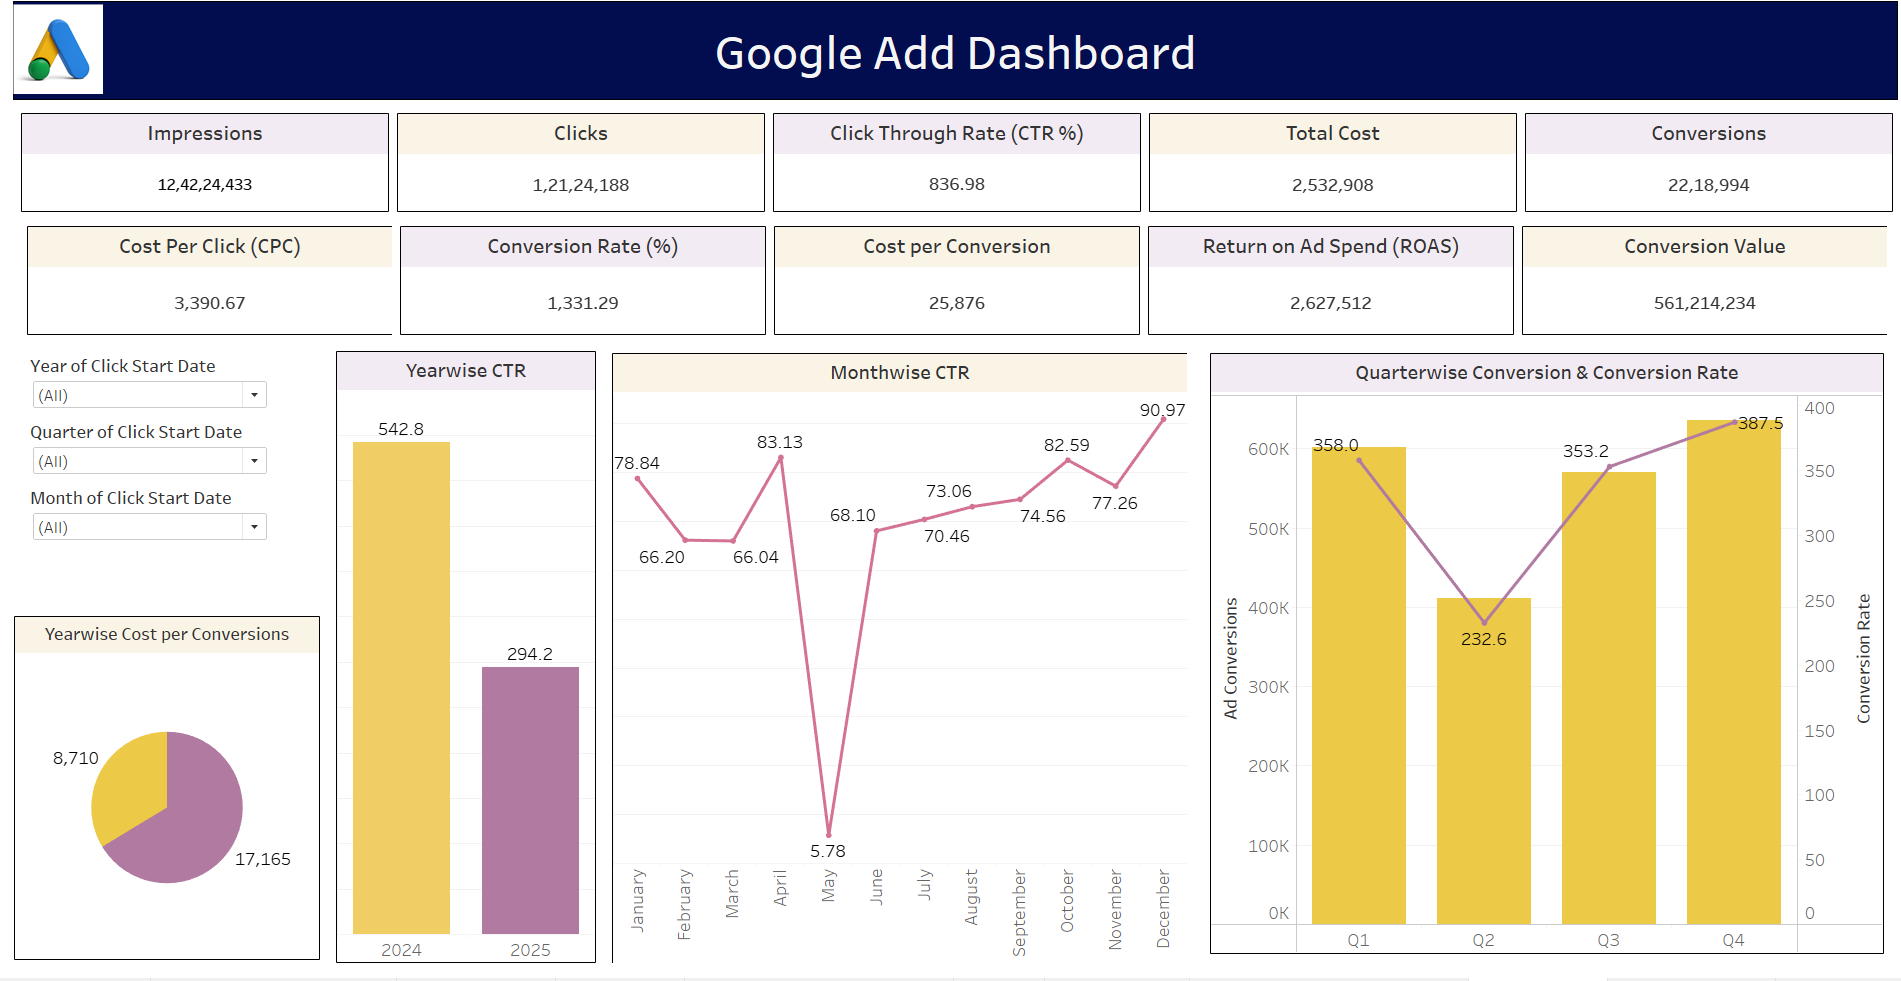

What the dashboard file says about the page in this screenshot:
{"tool":"powerbi","page":{"name":"Google","canvas":[1280,720],"ordinal":1},"visuals":[{"type":"shape","box":[32.6,145.1,80.9,229.8],"z":0},{"type":"shape","box":[33,220.2,80.9,78.7],"z":1000},{"type":"card","title":"Conversions","fields":{"Values":["Sum(Google Add Data.ad_conversions)"]},"box":[164.7,190.7,173,67.9],"z":2000},{"type":"card","title":"Total Impressions","fields":{"Values":["Sum(Google Add Data.ad_impressions)"]},"box":[164.7,107,173,70.7],"z":3000},{"type":"card","title":"Clicks","fields":{"Values":["Sum(Google Add Data.ad_clicks)"]},"box":[367.4,107,171.2,71.6],"z":4000},{"type":"card","title":"Click through rate","fields":{"Values":["Sum(Google Add Data.click through rate)"]},"box":[575.8,107,203.7,70.7],"z":5000},{"type":"card","title":"Total Cost","fields":{"Values":["Sum(Google Add Data.ad_cost_usd)"]},"box":[807.4,107,180.5,73.5],"z":6000},{"type":"card","title":"Conversion Rate","fields":{"Values":["Sum(Google Add Data.conversion rate)"]},"box":[1012.1,107,193.5,73.5],"z":7000},{"type":"card","title":"Total likes","fields":{"Values":["Sum(Google Add Data.ROAS)"]},"box":[1012.1,188.8,193.5,67.9],"z":8000},{"type":"card","title":"Conversion value","fields":{"Values":["Sum(Google Add Data.ad_conversion_value)"]},"box":[807.4,192.6,180.5,67],"z":9000},{"type":"card","title":"cost per conversion","fields":{"Values":["Sum(Google Add Data.Cost per Conversion)"]},"box":[575.8,191.6,203.7,67.9],"z":10000},{"type":"card","title":"Cost per Click","fields":{"Values":["Sum(Google Add Data.cost per click)"]},"box":[367.4,191.6,171.2,67],"z":11000},{"type":"lineChart","title":"CTR by month","fields":{"Category":["Google Add Data.click_start_date.Variation.Date Hierarchy.Month"],"Y":["Sum(Google Add Data.conversion rate)"]},"box":[164.7,268.8,554.4,206.5],"z":12000},{"type":"pieChart","title":"Yearwise cost per conversion","fields":{"Y":["Sum(Google Add Data.Campaign CTR (%))"],"Category":["Google Add Data.click_start_date.Variation.Date Hierarchy.Year"]},"box":[739.5,273.5,466,201.9],"z":13000},{"type":"lineStackedColumnComboChart","title":"Quarterwise ad conversion vs conversion rate","fields":{"Y":["Sum(Google Add Data.conversion rate)"],"Category":["Google Add Data.click_start_date.Variation.Date Hierarchy.Quarter"],"Y2":["Sum(Google Add Data.ad_conversions)"]},"box":[164.7,488.4,554.4,222.3],"z":14000},{"type":"donutChart","title":"Impression Yearwise","fields":{"Y":["Sum(Google Add Data.ad_impressions)"],"Category":["Google Add Data.click_start_date.Variation.Date Hierarchy.Year"]},"box":[739.5,494.9,466,215.8],"z":15000},{"type":"slicer","fields":{"Values":["Google Add Data.click_start_date.Variation.Date Hierarchy.Month"]},"box":[524.8,16,179.6,68.8],"z":16000},{"type":"slicer","fields":{"Values":["Google Add Data.ad_group_name"]},"box":[731.3,13,179.6,68.8],"z":17000},{"type":"image","box":[49.3,310.7,48.4,47.4],"z":18000},{"type":"image","box":[40.9,155.3,64.2,59.5],"z":19000},{"type":"textbox","box":[32.9,16,452.9,67.8],"z":20000},{"type":"image","box":[1141.5,22.5,64.2,49.5],"z":21000},{"type":"slicer","fields":{"Values":["Google Add Data.click_start_date.Variation.Date Hierarchy.Day"]},"box":[933.3,13.5,188,68.7],"z":22000},{"type":"slicer","fields":{"Values":["Google Add Data.click_start_date.Variation.Date Hierarchy.Quarter"]},"box":[19.1,544.9,109.2,156.5],"z":23000},{"type":"slicer","fields":{"Values":["Google Add Data.click_start_date.Variation.Date Hierarchy.Year"]},"box":[19.2,427.7,109.6,107.5],"z":24000},{"type":"image","box":[34,236.2,77.7,53.2],"z":25000}]}

Visuals, with their boxes on the page's 1280x720 design canvas (x1, y1, x2, y2). These are canvas units, not pixel positions in the 1901x981 screenshot, which may show the page scaled, cropped or inside an application window:
shape: box(33, 145, 114, 375)
shape: box(33, 220, 114, 299)
"Conversions" card: box(165, 191, 338, 259)
"Total Impressions" card: box(165, 107, 338, 178)
"Clicks" card: box(367, 107, 539, 179)
"Click through rate" card: box(576, 107, 780, 178)
"Total Cost" card: box(807, 107, 988, 180)
"Conversion Rate" card: box(1012, 107, 1206, 180)
"Total likes" card: box(1012, 189, 1206, 257)
"Conversion value" card: box(807, 193, 988, 260)
"cost per conversion" card: box(576, 192, 780, 260)
"Cost per Click" card: box(367, 192, 539, 259)
"CTR by month" lineChart: box(165, 269, 719, 475)
"Yearwise cost per conversion" pieChart: box(740, 274, 1206, 475)
"Quarterwise ad conversion vs conversion rate" lineStackedColumnComboChart: box(165, 488, 719, 711)
"Impression Yearwise" donutChart: box(740, 495, 1206, 711)
slicer - Google Add Data.click_start_date.Variation.Date Hierarchy.Month: box(525, 16, 704, 85)
slicer - Google Add Data.ad_group_name: box(731, 13, 911, 82)
image: box(49, 311, 98, 358)
image: box(41, 155, 105, 215)
textbox: box(33, 16, 486, 84)
image: box(1142, 22, 1206, 72)
slicer - Google Add Data.click_start_date.Variation.Date Hierarchy.Day: box(933, 14, 1121, 82)
slicer - Google Add Data.click_start_date.Variation.Date Hierarchy.Quarter: box(19, 545, 128, 701)
slicer - Google Add Data.click_start_date.Variation.Date Hierarchy.Year: box(19, 428, 129, 535)
image: box(34, 236, 112, 289)
